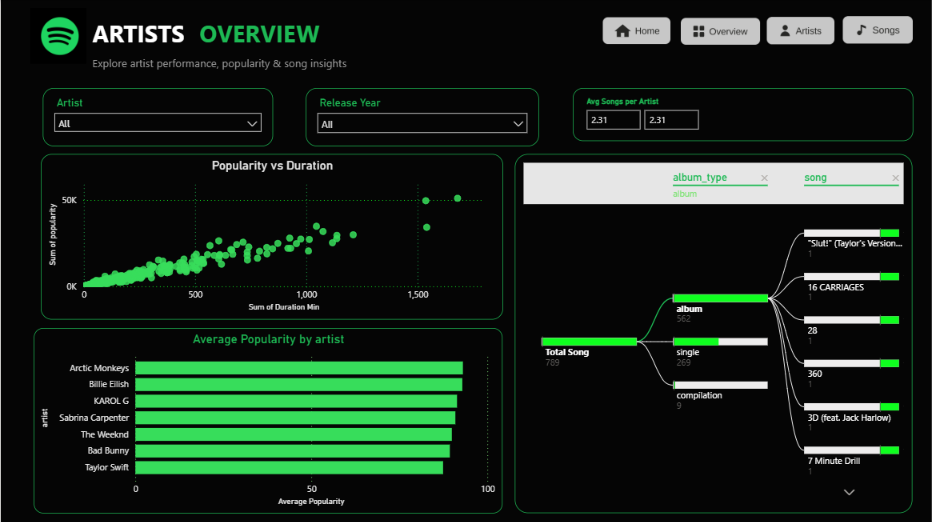

What the dashboard file says about the page in this screenshot:
{"tool":"powerbi","page":{"name":"Artists","canvas":[1280,720],"ordinal":2},"visuals":[{"type":"textbox","box":[121.4,18.6,145.7,57.1],"z":0},{"type":"textbox","box":[267.1,18.6,178.6,52.9],"z":1000},{"type":"image","box":[25.7,11.4,105.7,77.1],"z":2000},{"type":"textbox","box":[121.4,71.4,411.4,34.3],"z":3000},{"type":"group","id":"g1","title":"Group 1","box":[825.7,11.4,425.7,64.3],"z":4000},{"type":"slicer","title":"Artist","fields":{"Values":["spotify-top-50-world.artist"]},"box":[57.1,121.4,315.7,80],"z":5000},{"type":"slicer","fields":{"Values":["spotify-top-50-world.Release Year"]},"box":[418.6,121.4,320,80],"z":6000},{"type":"clusteredBarChart","fields":{"Y":["spotify-top-50-world.Average Popularity"],"Category":["spotify-top-50-world.artist"]},"box":[45.7,450,642.9,254.3],"z":7000},{"type":"decompositionTreeVisual","fields":{"Analyze":["spotify-top-50-world.Total Song"],"ExplainBy":["spotify-top-50-world.album_type","spotify-top-50-world.song","spotify-top-50-world.artist"]},"box":[705.7,211.4,545.7,492.9],"z":8000},{"type":"scatterChart","title":"Popularity vs Duration","fields":{"Category":["spotify-top-50-world.song"],"X":["Sum(spotify-top-50-world.Duration Min)"],"Y":["Sum(spotify-top-50-world.popularity)"]},"box":[54.3,211.4,634.3,227.1],"z":9000},{"type":"slicer","fields":{"Values":["spotify-top-50-world.Avg Songs per Artist"]},"box":[784.3,121.4,467.1,72.9],"z":10000},{"type":"image","box":[825.7,17.1,92.9,51.4],"z":11000,"group":"g1"},{"type":"image","box":[932.8,11.4,108.6,64.3],"z":12000,"group":"g1"},{"type":"image","box":[1051.4,20,92.9,45.7],"z":13000,"group":"g1"},{"type":"image","box":[1155.7,11.4,95.7,60],"z":14000,"group":"g1"}]}

Visuals, with their boxes in screenshot pixels (x1, y1, x2, y2), scaled from the page's 1280x720 canvas onto the 932x522 screenshot:
textbox: <bbox>88, 13, 194, 55</bbox>
textbox: <bbox>194, 13, 325, 52</bbox>
image: <bbox>19, 8, 96, 64</bbox>
textbox: <bbox>88, 52, 388, 77</bbox>
"Group 1" group: <bbox>601, 8, 911, 55</bbox>
"Artist" slicer: <bbox>42, 88, 271, 146</bbox>
slicer - spotify-top-50-world.Release Year: <bbox>305, 88, 538, 146</bbox>
clusteredBarChart - spotify-top-50-world.Average Popularity x spotify-top-50-world.artist: <bbox>33, 326, 501, 511</bbox>
decompositionTreeVisual - spotify-top-50-world.Total Song x spotify-top-50-world.album_type: <bbox>514, 153, 911, 511</bbox>
"Popularity vs Duration" scatterChart: <bbox>40, 153, 501, 318</bbox>
slicer - spotify-top-50-world.Avg Songs per Artist: <bbox>571, 88, 911, 141</bbox>
image: <bbox>601, 12, 669, 50</bbox>
image: <bbox>679, 8, 758, 55</bbox>
image: <bbox>766, 14, 833, 48</bbox>
image: <bbox>841, 8, 911, 52</bbox>
